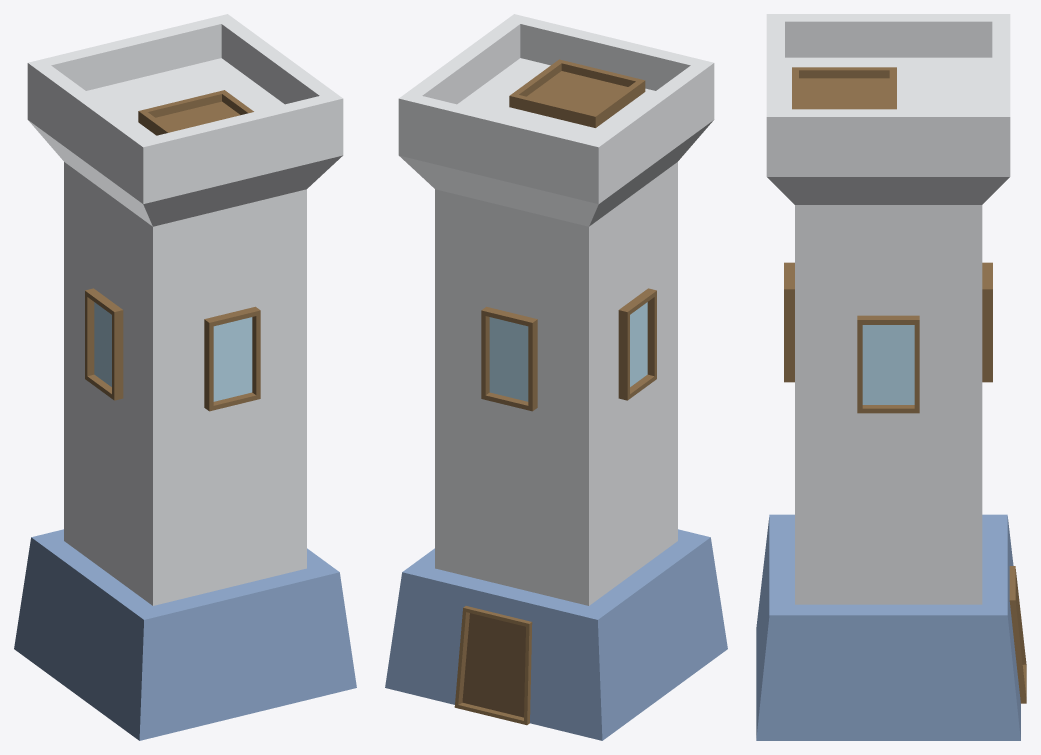
Rendered from GreekTower2.fbx.
3 views of the same model, side by side, from view 1: azimuth 30°, elevation 25°; view 2: azimuth 150°, elevation 25°; view 3: azimuth 270°, elevation 25° (orthographic). The views are drawn at different scales.
Parts seen in each view (by area): view 1: Watchtower; view 2: Watchtower; view 3: Watchtower.
Part boxes in pixels (x1,y1,x2,y2): Watchtower: (14,14,356,740); Watchtower: (385,14,727,740); Watchtower: (756,14,1026,740).
Bounding box in the file's own units: 990 × 2558 × 1012.
